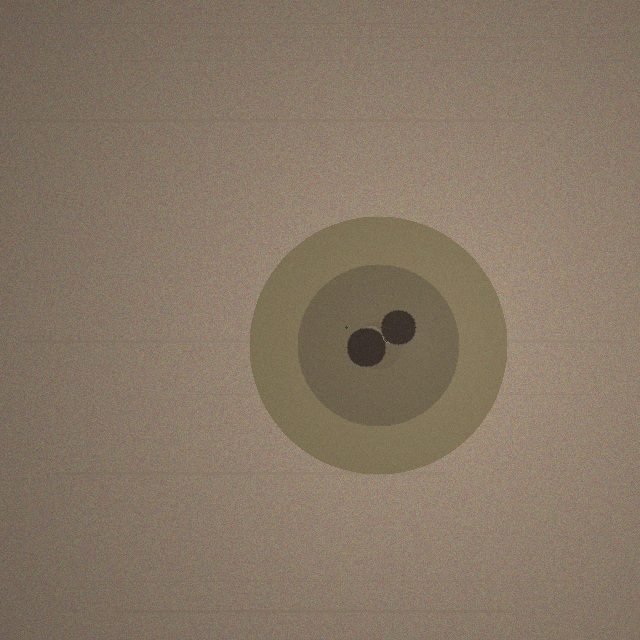shrinkage: (249, 216, 507, 474)
